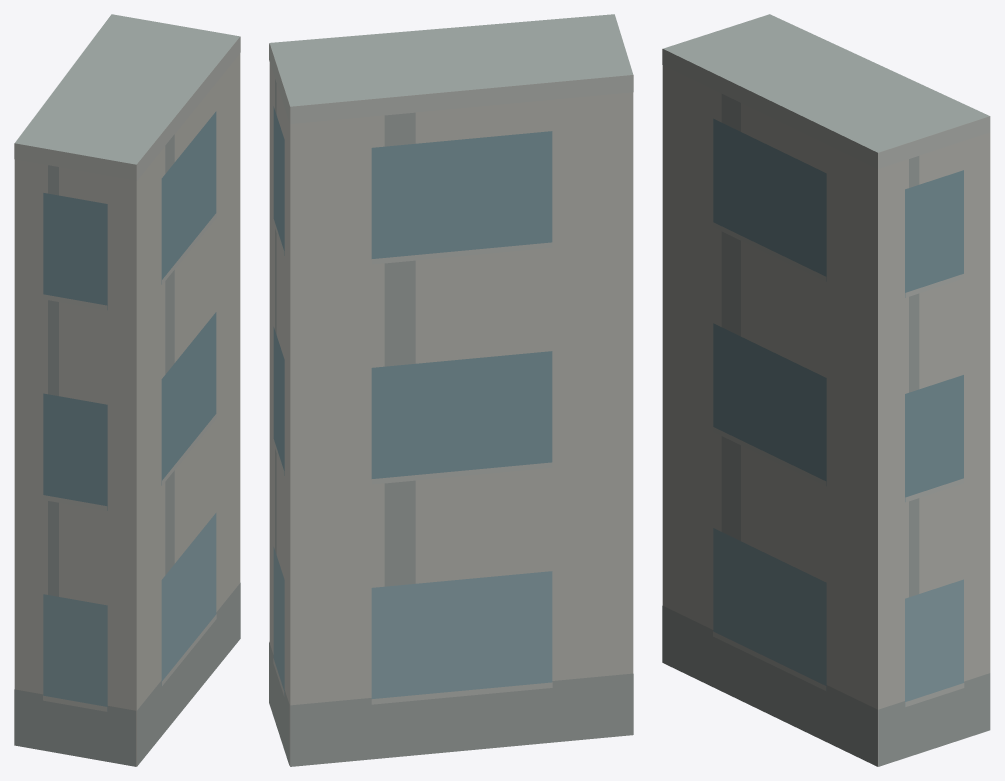
The model's file is survey-upis-32898842.glb.
3 renders of one model, left to right at view 1: azimuth 30°, elevation 25°; view 2: azimuth 150°, elevation 25°; view 3: azimuth 270°, elevation 25°, orthographic. The views are drawn at different scales.
Parts seen in each view (by area): view 1: survey-upis-32898842.tmp; view 2: survey-upis-32898842.tmp; view 3: survey-upis-32898842.tmp.
Part boxes in pixels (x1=…): survey-upis-32898842.tmp: x1=14, y1=14, x2=240, y2=766; survey-upis-32898842.tmp: x1=269, y1=14, x2=633, y2=766; survey-upis-32898842.tmp: x1=662, y1=14, x2=990, y2=766.
Size of the model in its own units: 4.44 by 9.15 by 4.43.
